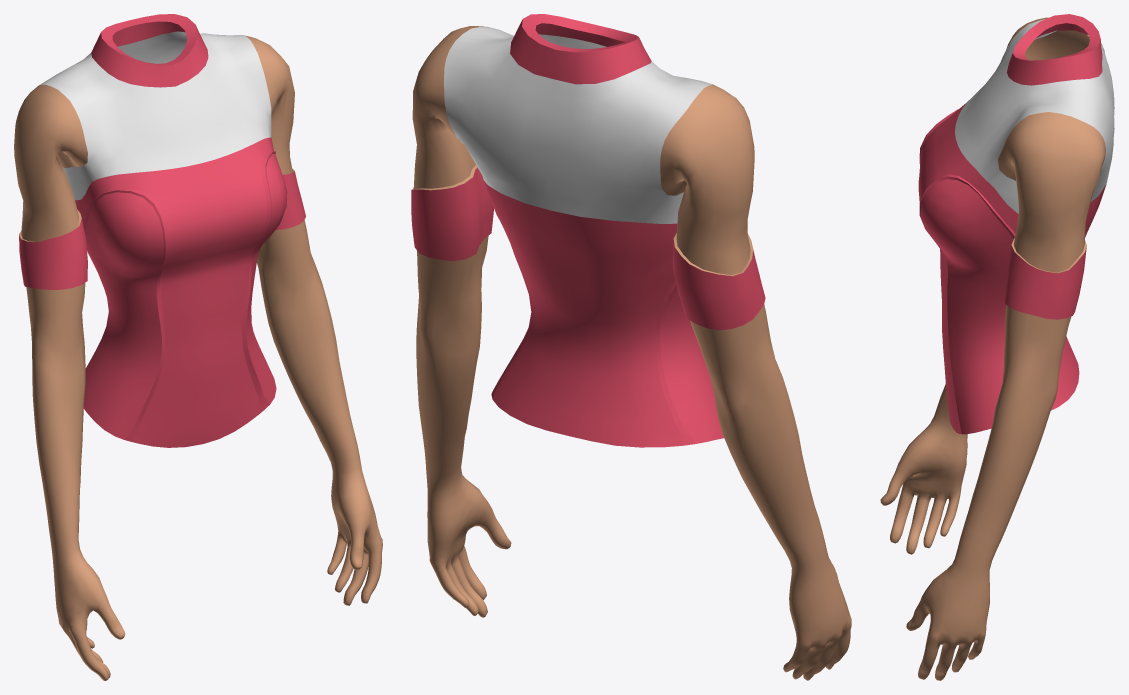
The model's file is TORSO2.fbx.
3 renders of one model, left to right at view 1: azimuth 30°, elevation 25°; view 2: azimuth 150°, elevation 25°; view 3: azimuth 270°, elevation 25°, orthographic. The views are drawn at different scales.
Parts seen in each view (by area): view 1: NEWOutfit1; view 2: NEWOutfit1; view 3: NEWOutfit1.
Boxes of the visible parts, x1,y1,x2,y2 form: NEWOutfit1: (14, 14, 382, 680); NEWOutfit1: (411, 14, 851, 680); NEWOutfit1: (880, 14, 1114, 680).
Size of the model in its own units: 35.42 by 59.06 by 21.72.
